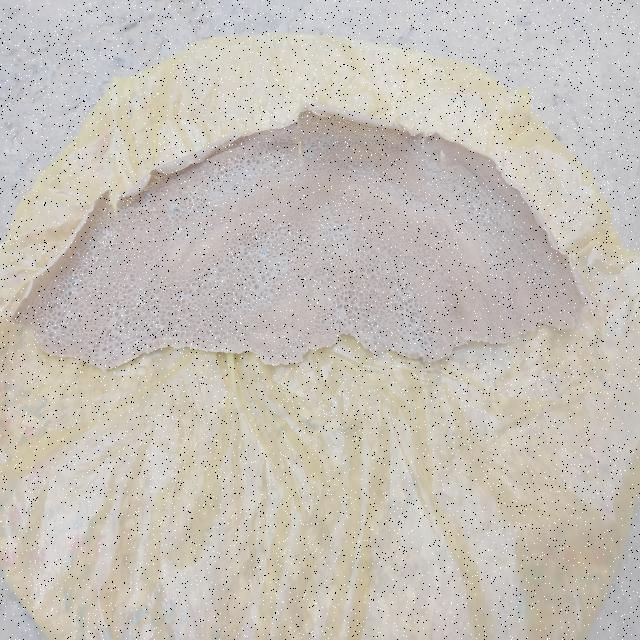injera_mold: (173, 204, 182, 218), (105, 229, 112, 244), (71, 273, 80, 284), (146, 188, 152, 203), (258, 156, 266, 166), (112, 272, 120, 282), (192, 189, 199, 200), (146, 318, 152, 330), (136, 296, 143, 306), (127, 349, 137, 356), (482, 213, 488, 224), (154, 321, 162, 329), (203, 247, 210, 256), (173, 277, 180, 286), (133, 226, 142, 233), (245, 168, 250, 180), (83, 258, 88, 270), (150, 296, 155, 308), (262, 247, 268, 256), (267, 137, 272, 147), (97, 240, 102, 250), (63, 319, 70, 326), (67, 289, 73, 297), (90, 240, 94, 252), (100, 352, 108, 358), (427, 180, 432, 189), (429, 157, 433, 168), (124, 212, 131, 218), (195, 226, 202, 232), (310, 150, 314, 160), (269, 215, 274, 223), (178, 226, 182, 236), (468, 195, 472, 205), (24, 312, 28, 322), (35, 330, 40, 338), (144, 332, 148, 342), (154, 332, 162, 337), (256, 231, 259, 243), (101, 263, 106, 270), (136, 340, 140, 348), (128, 275, 132, 283), (247, 252, 250, 262), (478, 190, 483, 196), (142, 288, 146, 295), (77, 253, 81, 260), (278, 149, 282, 156), (206, 207, 209, 216), (47, 319, 51, 325), (92, 255, 95, 262), (115, 230, 118, 237), (520, 224, 523, 231), (469, 175, 472, 182), (552, 262, 557, 266), (112, 257, 117, 261), (97, 226, 99, 236), (96, 285, 100, 290), (74, 337, 78, 342), (228, 149, 232, 152)
